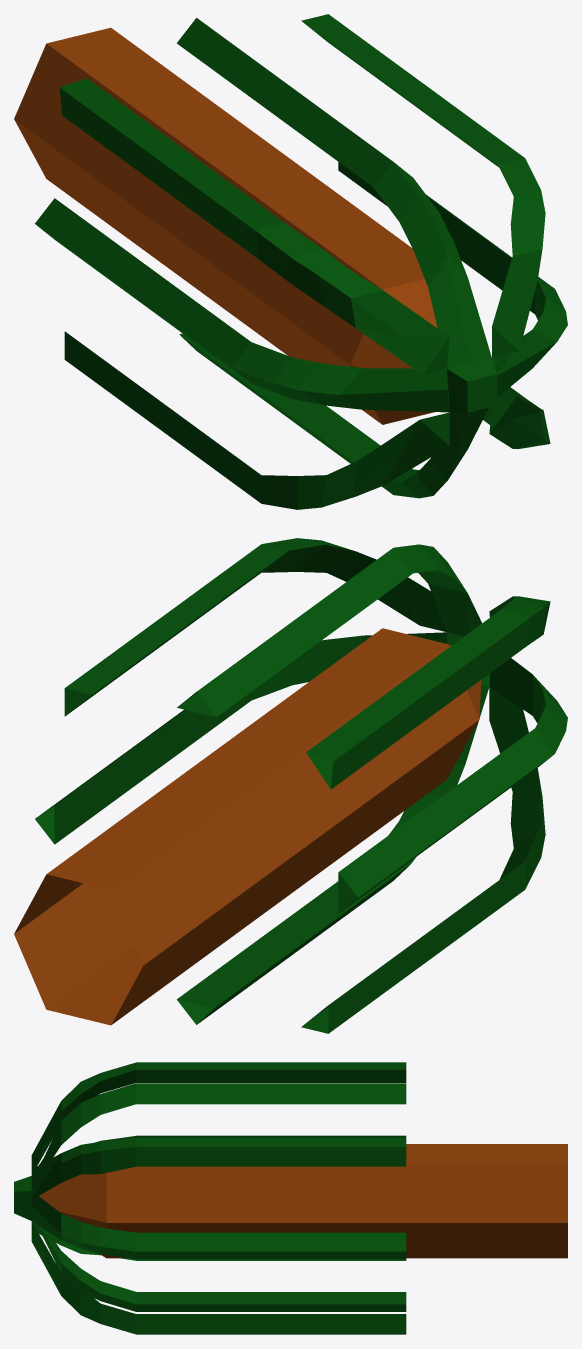
File: 6_dead.obj
The picture shows the model from 3 angles, top to bottom: view 1: azimuth 30°, elevation 25°; view 2: azimuth 150°, elevation 25°; view 3: azimuth 270°, elevation 25°; orthographic projection. The views are drawn at different scales.
Visible parts, largest first — view 1: dragonfruit_6_dead; view 2: dragonfruit_6_dead; view 3: dragonfruit_6_dead.
Boxes of the visible parts, x1,y1,x2,y2 form: dragonfruit_6_dead: [14, 14, 567, 509]; dragonfruit_6_dead: [14, 538, 567, 1033]; dragonfruit_6_dead: [14, 1062, 567, 1334].
Bounding box in the file's own units: 0.845 × 0.832 × 1.83.
